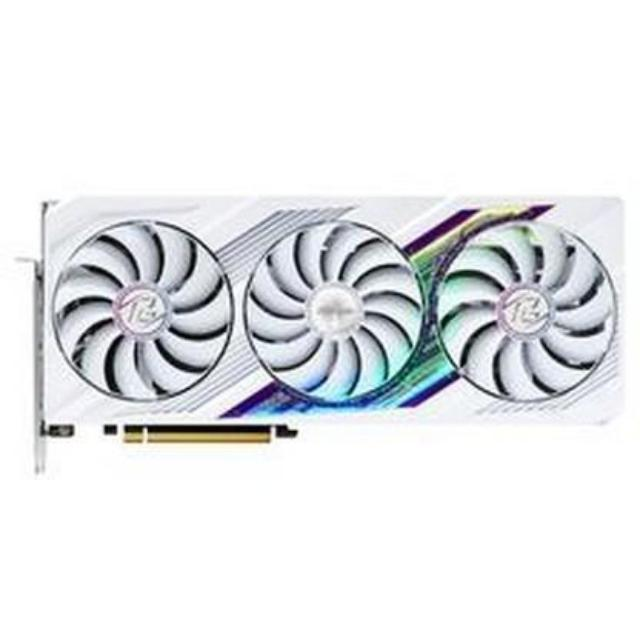GPU: (31, 185, 636, 442)
